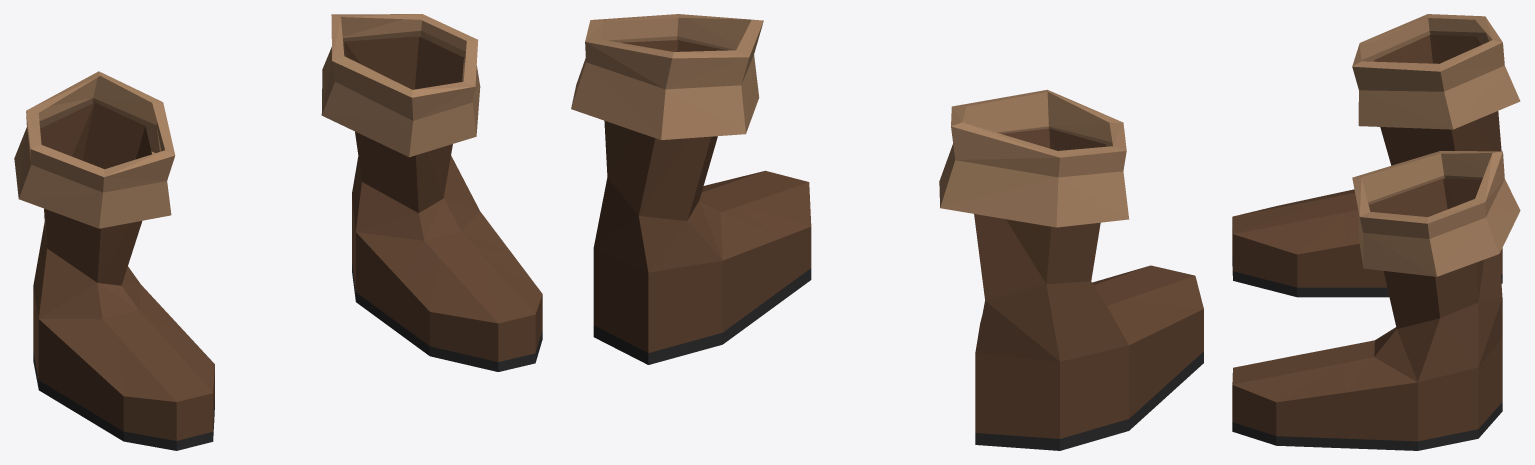
File: UncommonFarmerBoots.dae
The picture shows the model from 3 angles, left to right: view 1: azimuth 30°, elevation 25°; view 2: azimuth 150°, elevation 25°; view 3: azimuth 270°, elevation 25°; orthographic projection. The views are drawn at different scales.
Visible parts, largest first — view 1: Boots; view 2: Boots; view 3: Boots.
Part boxes in pixels (<box>): Boots: <box>14,14,542,450</box>; Boots: <box>571,14,1203,450</box>; Boots: <box>1232,14,1520,450</box>.
Size of the model in its own units: 2.74 by 1.54 by 1.48.
